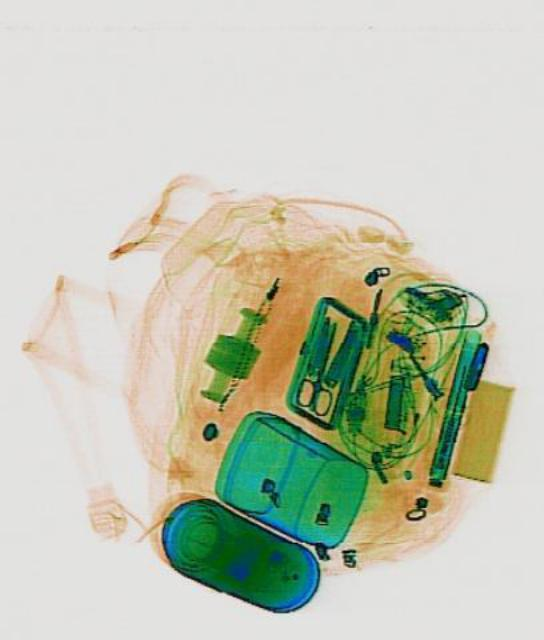Scissors: (291, 314, 351, 416)
